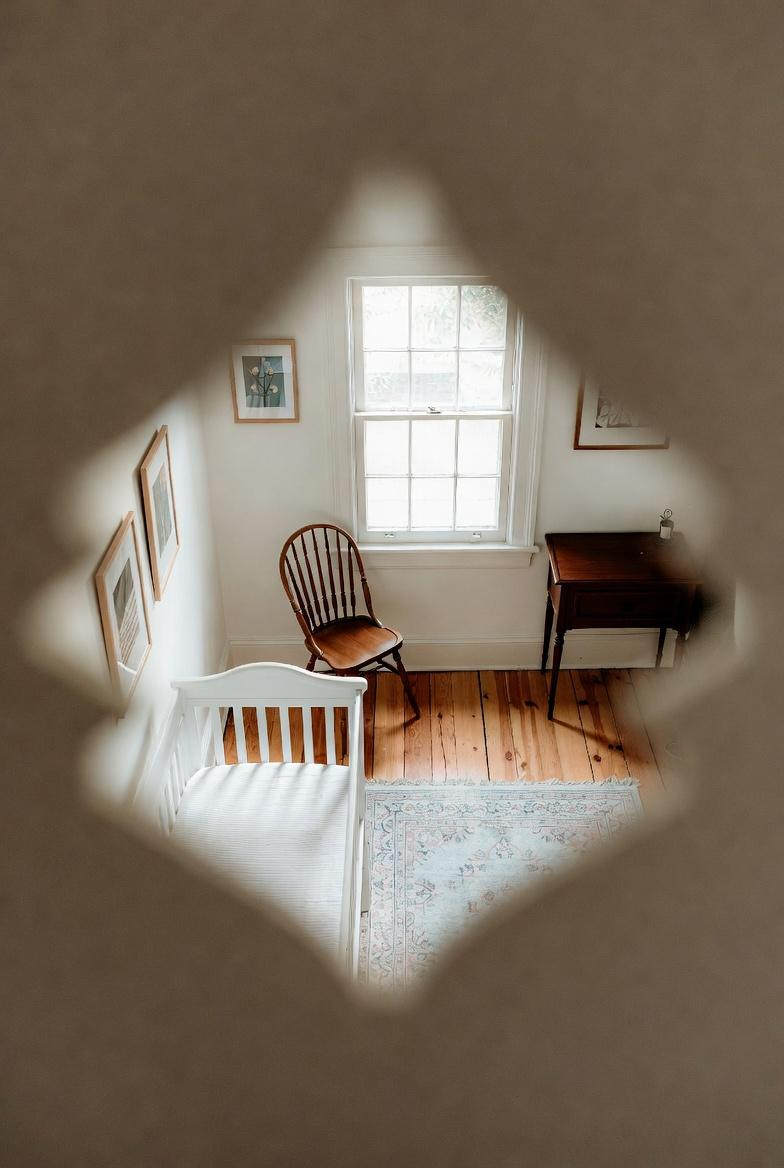crib: (143, 663, 367, 975)
